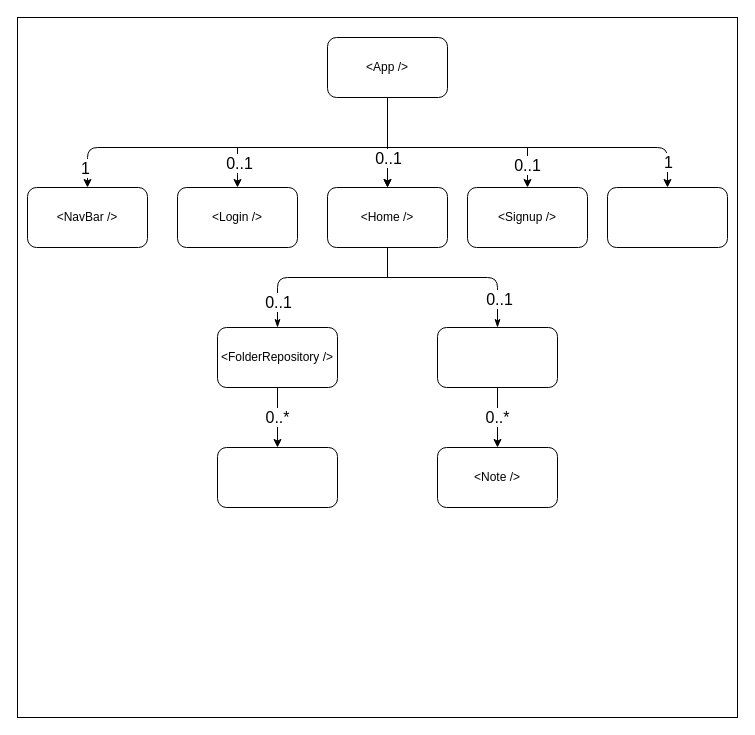
The diagram is 755 pixels wide and 735 high, and some of its shapes have lost their labels. Each missing label, with the box of its shape:
<Folder />: (216, 446, 338, 508)
<Footer />: (606, 186, 728, 248)
<NoteRepository />: (436, 326, 558, 388)
